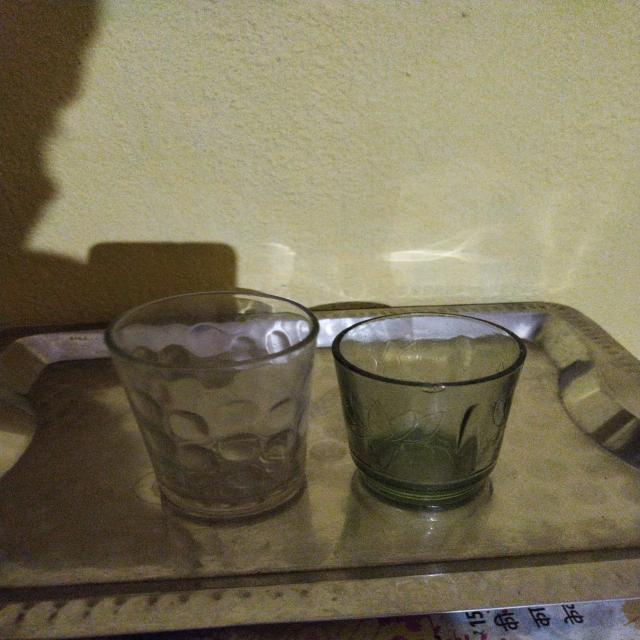Glass: (99, 287, 322, 528), (330, 308, 532, 514)
